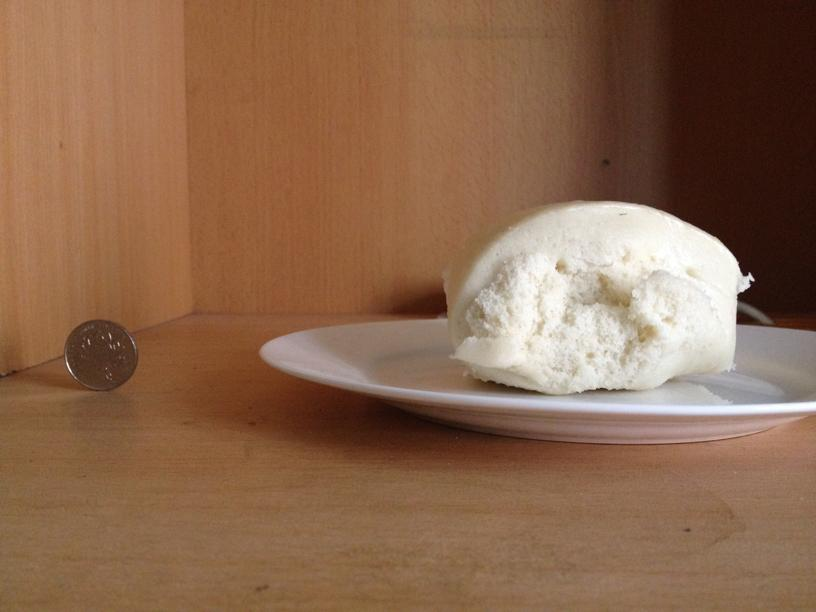bun: (436, 203, 742, 391)
coin: (59, 317, 138, 392)
